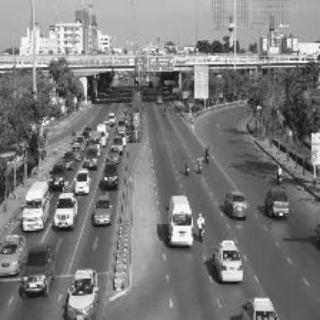other: (64, 263, 100, 311)
